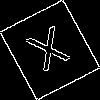X: (25, 25, 77, 82)
